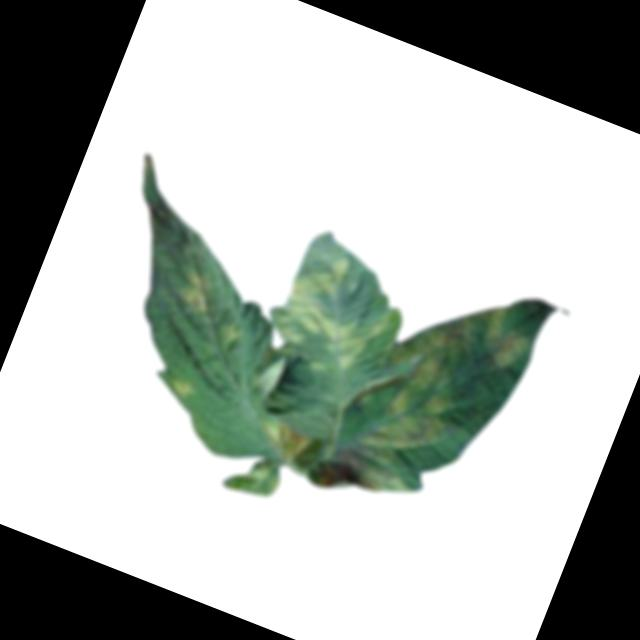Leaf_Mold: (312, 267, 534, 538), (264, 247, 391, 384), (172, 263, 229, 317), (256, 415, 314, 466), (170, 372, 201, 399)
